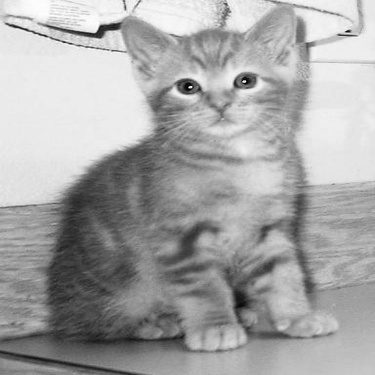cat: (49, 4, 339, 352)
